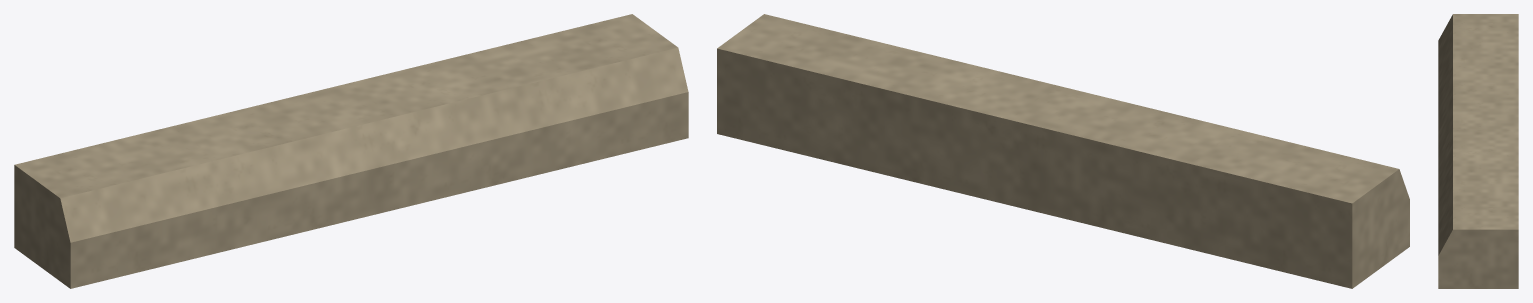
Rendered from sandstone-sill.lod1.glb.
3 renders of one model, left to right at view 1: azimuth 30°, elevation 25°; view 2: azimuth 150°, elevation 25°; view 3: azimuth 270°, elevation 25°, orthographic. The views are drawn at different scales.
Parts seen in each view (by area): view 1: sandstone-sill; view 2: sandstone-sill; view 3: sandstone-sill.
Boxes of the visible parts, box(x1,y1,x2,y2) form: sandstone-sill: box(14, 14, 688, 288); sandstone-sill: box(717, 14, 1409, 288); sandstone-sill: box(1438, 14, 1518, 288).
Size of the model in its own units: 1.4 by 0.18 by 0.22.
Materials: 1 (1 with a texture image).
